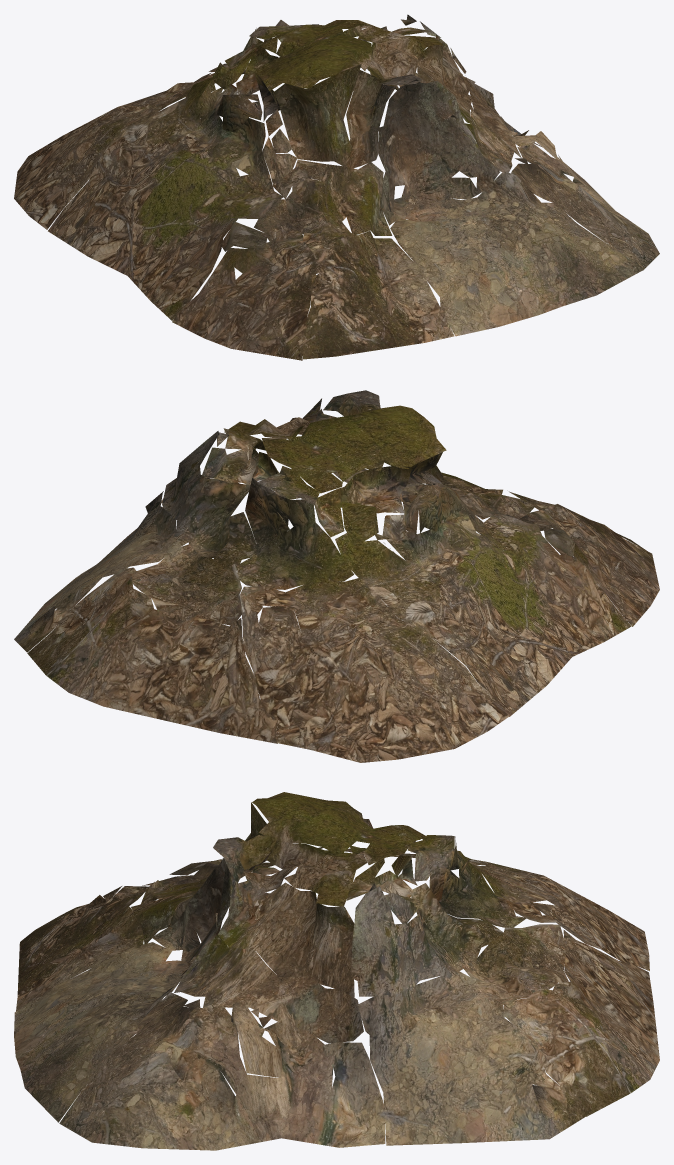
Rendered from stump_a.glb.
3 renders of one model, top to bottom at view 1: azimuth 30°, elevation 25°; view 2: azimuth 150°, elevation 25°; view 3: azimuth 270°, elevation 25°, orthographic. The views are drawn at different scales.
Visible parts, largest first — view 1: stump_a; view 2: stump_a; view 3: stump_a.
Part boxes in pixels (x1,y1,x2,y2): stump_a: (14,14,659,360); stump_a: (14,390,659,762); stump_a: (14,792,659,1150).
Bounding box in the file's own units: 1.56 × 0.62 × 1.74.
Materials: 1 (1 with a texture image).
